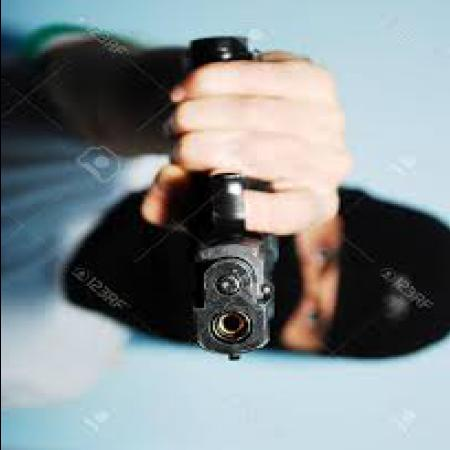Pistol: (172, 38, 278, 362)
